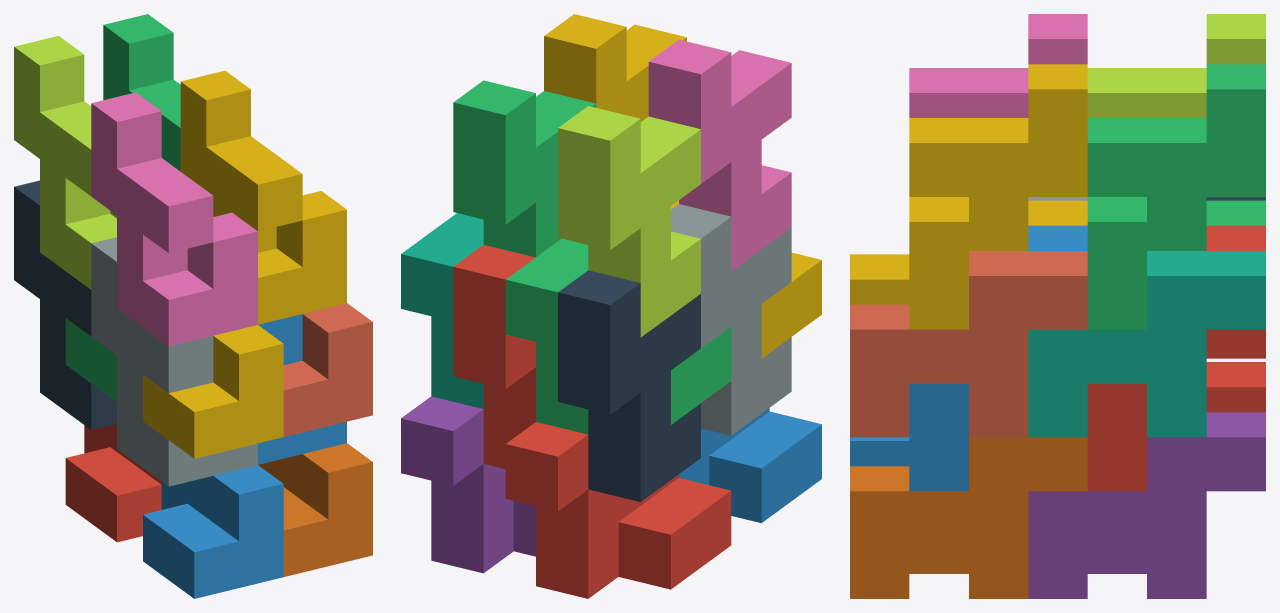
The model's file is tiling.obj.
3 views of the same model, side by side, from view 1: azimuth 30°, elevation 25°; view 2: azimuth 150°, elevation 25°; view 3: azimuth 270°, elevation 25° (orthographic). The views are drawn at different scales.
Parts seen in each view (by area): view 1: copy_2_domain_4, copy_2_domain_8, copy_2_domain_3, copy_1_domain_2, copy_2_domain_2, copy_1_domain_4, copy_1_domain_6, copy_2_domain_1, copy_1_domain_8, copy_1_domain_1, copy_2_domain_7, copy_2_domain_6 (+1 smaller); view 2: copy_2_domain_1, copy_1_domain_1, copy_2_domain_3, copy_2_domain_4, copy_2_domain_7, copy_1_domain_5, copy_2_domain_2, copy_2_domain_5, copy_1_domain_3, copy_1_domain_2, copy_2_domain_8, copy_1_domain_7 (+1 smaller); view 3: copy_2_domain_7, copy_2_domain_8, copy_1_domain_8, copy_1_domain_5, copy_1_domain_6, copy_1_domain_7, copy_2_domain_5, copy_2_domain_4, copy_2_domain_3, copy_2_domain_6, copy_1_domain_4, copy_1_domain_1 (+2 smaller).
Boxes of the visible parts, bbox=[...] form: copy_2_domain_4: bbox=[91, 92, 257, 346]; copy_2_domain_8: bbox=[180, 70, 346, 324]; copy_2_domain_3: bbox=[14, 36, 116, 289]; copy_1_domain_2: bbox=[143, 465, 283, 598]; copy_2_domain_2: bbox=[91, 237, 257, 486]; copy_1_domain_4: bbox=[143, 325, 283, 458]; copy_1_domain_6: bbox=[258, 443, 372, 576]; copy_2_domain_1: bbox=[14, 180, 116, 429]; copy_1_domain_8: bbox=[283, 303, 372, 436]; copy_1_domain_1: bbox=[65, 424, 161, 542]; copy_2_domain_7: bbox=[103, 14, 180, 171]; copy_2_domain_6: bbox=[258, 314, 346, 464]; copy_2_domain_1: bbox=[558, 270, 700, 501]; copy_1_domain_1: bbox=[505, 422, 731, 598]; copy_2_domain_3: bbox=[558, 106, 700, 337]; copy_2_domain_4: bbox=[648, 39, 791, 270]; copy_2_domain_7: bbox=[453, 80, 596, 257]; copy_1_domain_5: bbox=[401, 396, 535, 573]; copy_2_domain_2: bbox=[671, 204, 791, 435]; copy_2_domain_5: bbox=[453, 244, 535, 468]; copy_1_domain_3: bbox=[505, 238, 731, 434]; copy_1_domain_2: bbox=[679, 408, 821, 523]; copy_2_domain_8: bbox=[544, 14, 686, 121]; copy_1_domain_7: bbox=[401, 213, 483, 408]; copy_2_domain_7: bbox=[1087, 64, 1265, 329]; copy_2_domain_8: bbox=[909, 64, 1087, 329]; copy_1_domain_8: bbox=[850, 251, 1087, 437]; copy_1_domain_5: bbox=[1028, 412, 1265, 598]; copy_1_domain_6: bbox=[850, 437, 1087, 598]; copy_1_domain_7: bbox=[1028, 251, 1265, 437]; copy_2_domain_5: bbox=[1087, 225, 1265, 491]; copy_2_domain_4: bbox=[909, 14, 1087, 117]; copy_2_domain_3: bbox=[1087, 14, 1265, 117]; copy_2_domain_6: bbox=[909, 225, 1087, 491]; copy_1_domain_4: bbox=[850, 200, 1087, 304]; copy_1_domain_1: bbox=[1206, 362, 1265, 412].
Bounding box in the file's own units: 4 × 9 × 7.
